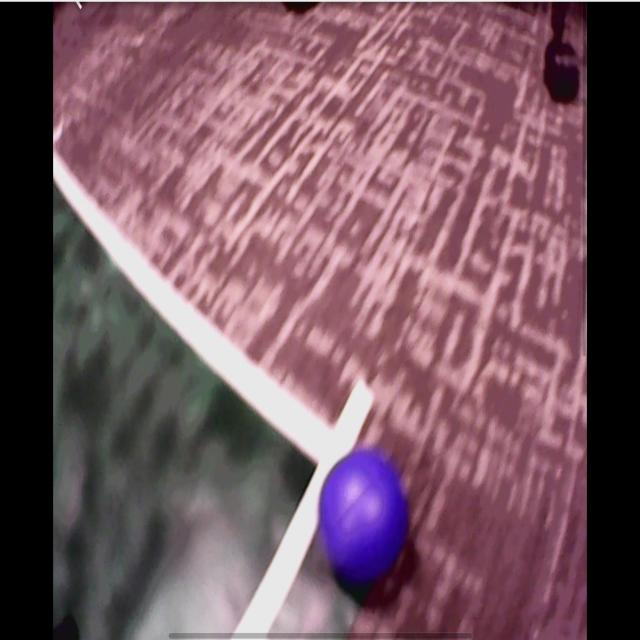ball: (323, 455, 406, 581)
